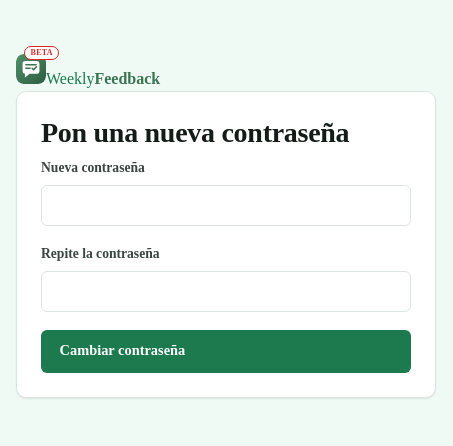
Test: ResetPasswordPage › token inválido/caducado: muestra el mensaje real del backend
The image size is (453, 446).
Type "password123" into the password field labelled "Nueva contraseña". click: point(226, 206)
box: 41,185 -> 411,226
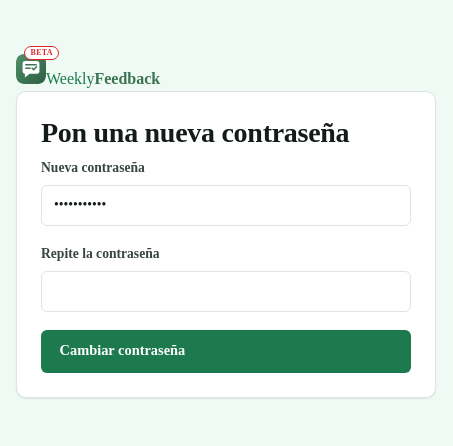
Type "password123" into the password field labelled "Repite la contraseña". click: point(226, 292)
box: 41,271 -> 411,312
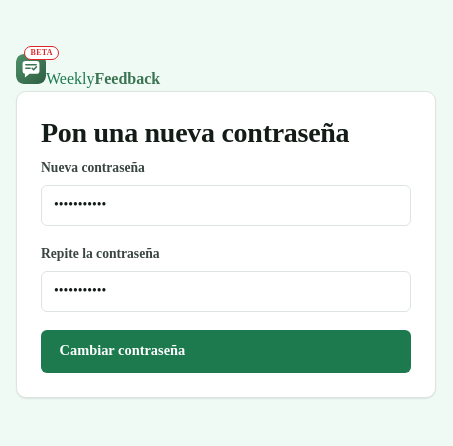
Click the button "Cambiar contraseña". click: point(122, 350)
box: 41,330 -> 411,373
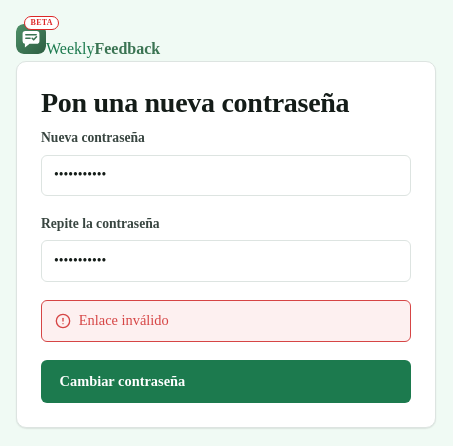
Result: the message reads "Enlace inválido" at 79,312 -> 169,328
